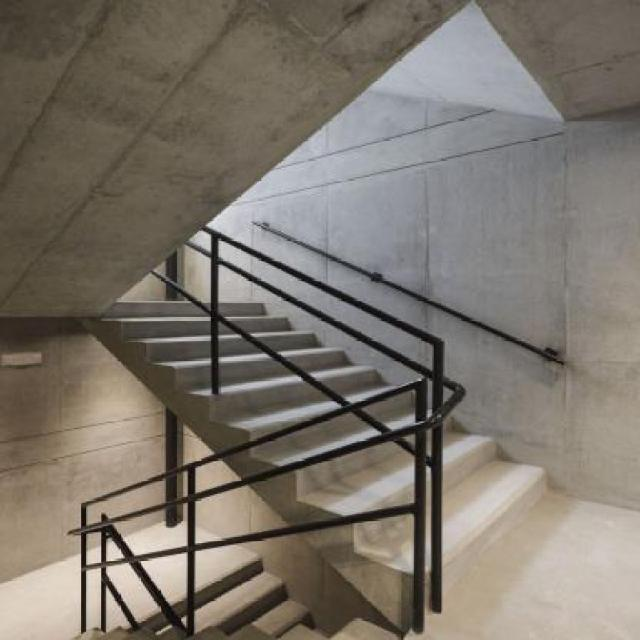stair: (63, 184, 612, 636)
